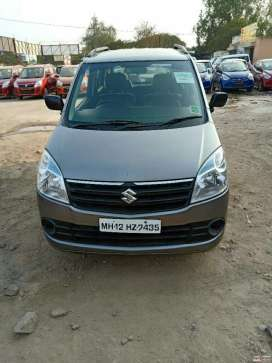license_plate: (97, 218, 162, 236)
